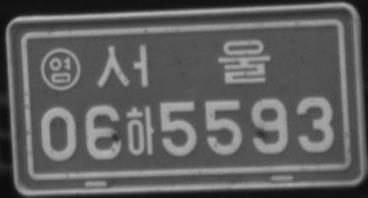0: (40, 106, 77, 162)
3: (295, 95, 335, 154)
5: (158, 100, 197, 156), (204, 99, 243, 155)
6: (84, 104, 122, 159)
9: (249, 97, 289, 155)
서울_D: (96, 38, 271, 89)
영: (40, 46, 82, 92)
하: (125, 105, 155, 155)
